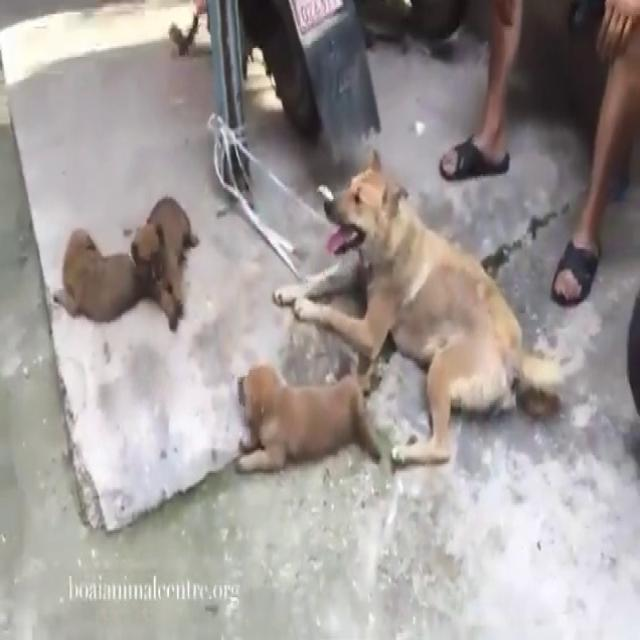normal_animals: (316, 158, 536, 460), (218, 342, 390, 508), (108, 175, 221, 358), (59, 190, 144, 372)
